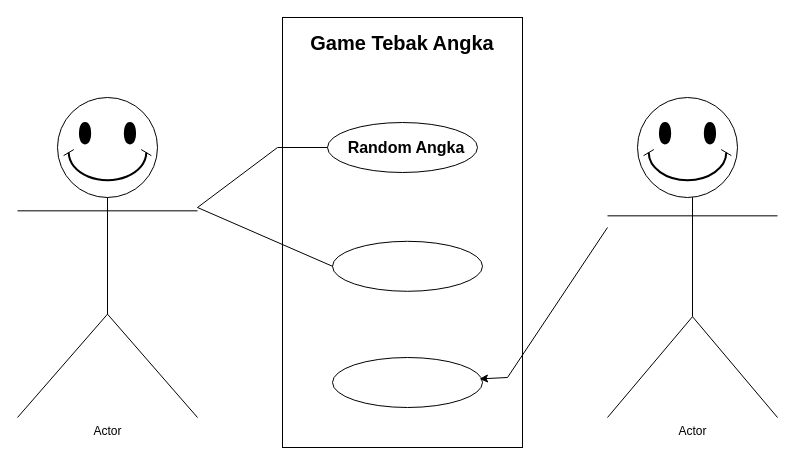
Some shapes in this 795 by 465 pixel diagram are drawn without their labels. Each missing label, with the centre of its shape:
Cek Angka: (407,265)
Menebak Angka: (407,382)
